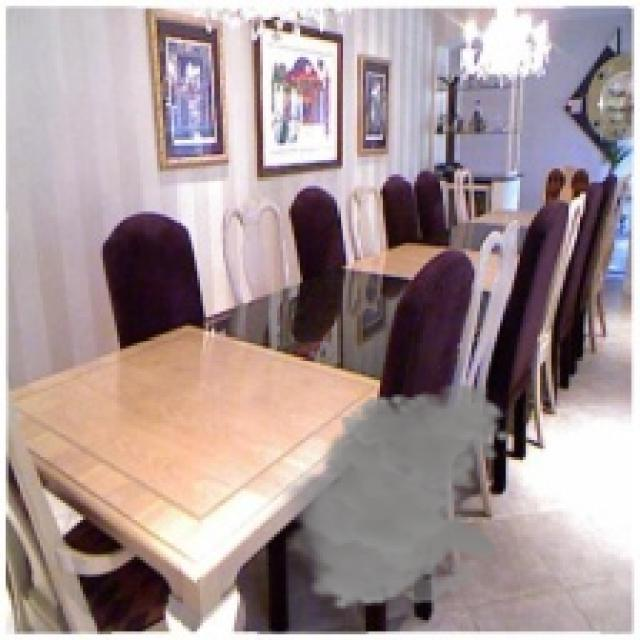Smoke: (277, 383, 512, 611)
